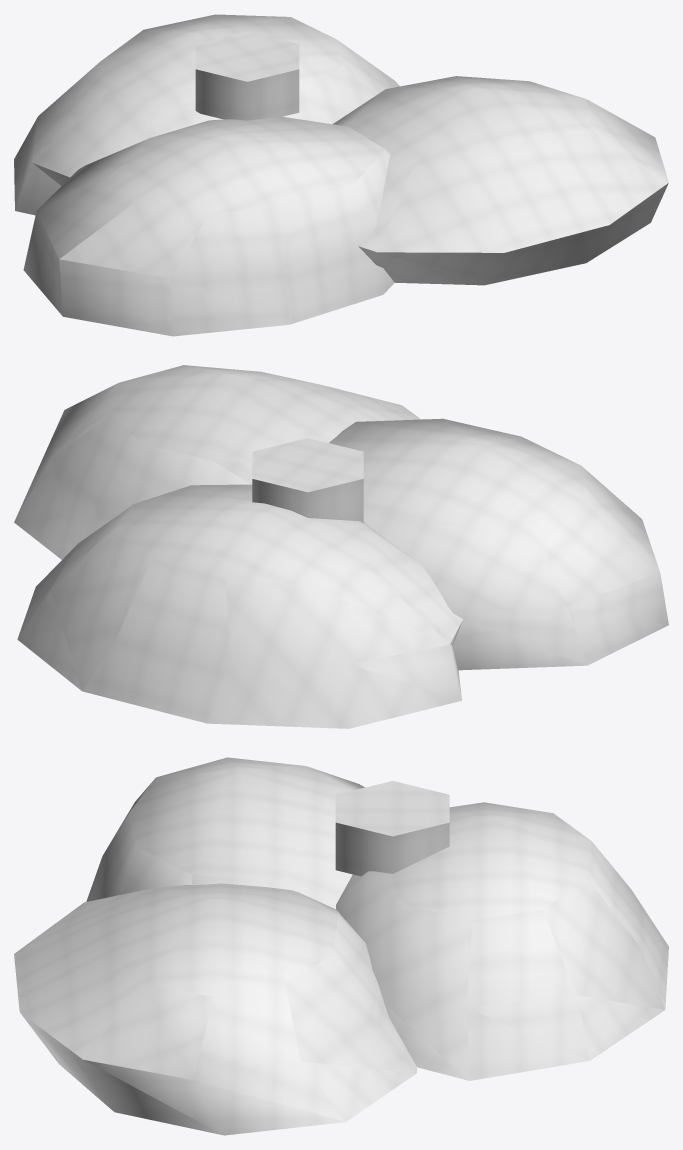
The model's file is food_hops.obj.
The picture shows the model from 3 angles, top to bottom: view 1: azimuth 30°, elevation 25°; view 2: azimuth 150°, elevation 25°; view 3: azimuth 270°, elevation 25°; orthographic projection. The views are drawn at different scales.
Visible parts, largest first — view 1: part_060_sack_dark, part_000_sack_dark, part_030_sack_dark, part_090_string; view 2: part_030_sack_dark, part_060_sack_dark, part_000_sack_dark, part_090_string; view 3: part_000_sack_dark, part_030_sack_dark, part_060_sack_dark, part_090_string.
Part boxes in pixels (x1,y1,x2,y2): part_060_sack_dark: (23, 116, 394, 336); part_000_sack_dark: (333, 76, 668, 285); part_030_sack_dark: (14, 14, 399, 215); part_090_string: (195, 31, 299, 120); part_030_sack_dark: (17, 484, 463, 728); part_060_sack_dark: (329, 418, 668, 670); part_000_sack_dark: (14, 365, 421, 559); part_090_string: (252, 438, 363, 523); part_000_sack_dark: (14, 883, 416, 1135); part_030_sack_dark: (336, 802, 668, 1080); part_060_sack_dark: (86, 757, 364, 908); part_090_string: (335, 781, 449, 876).
Bounding box in the file's own units: 0.5602 × 0.13 × 0.4977.
